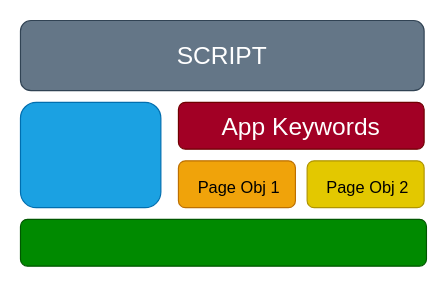
Some shapes in this 447 by 287 pixel diagram are drawn without their labels. Here are the shapes that lost their labels. From the top down, the centre of each, then its label:
At pixel 90 154: "Common".
At pixel 222 242: "SELENIUM LIBRARY".
